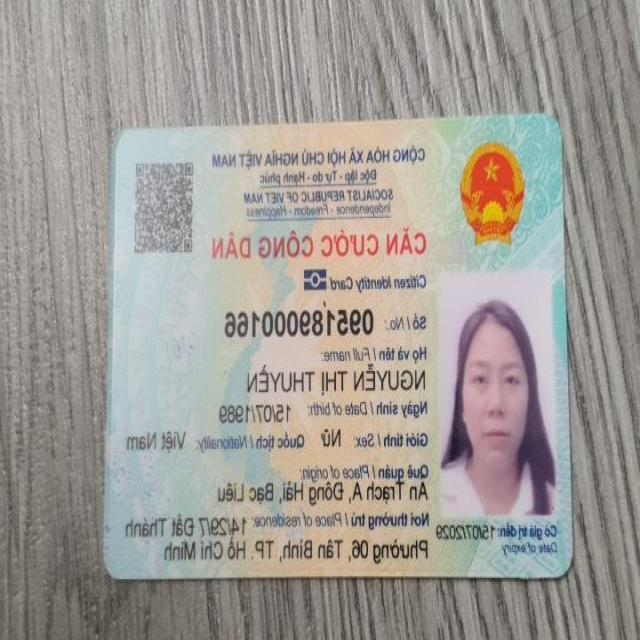bottom_left: (539, 543, 588, 595)
bottom_right: (93, 548, 133, 592)
image_person: (435, 276, 555, 515)
top_left: (533, 104, 575, 148)
top_right: (102, 114, 148, 161)
